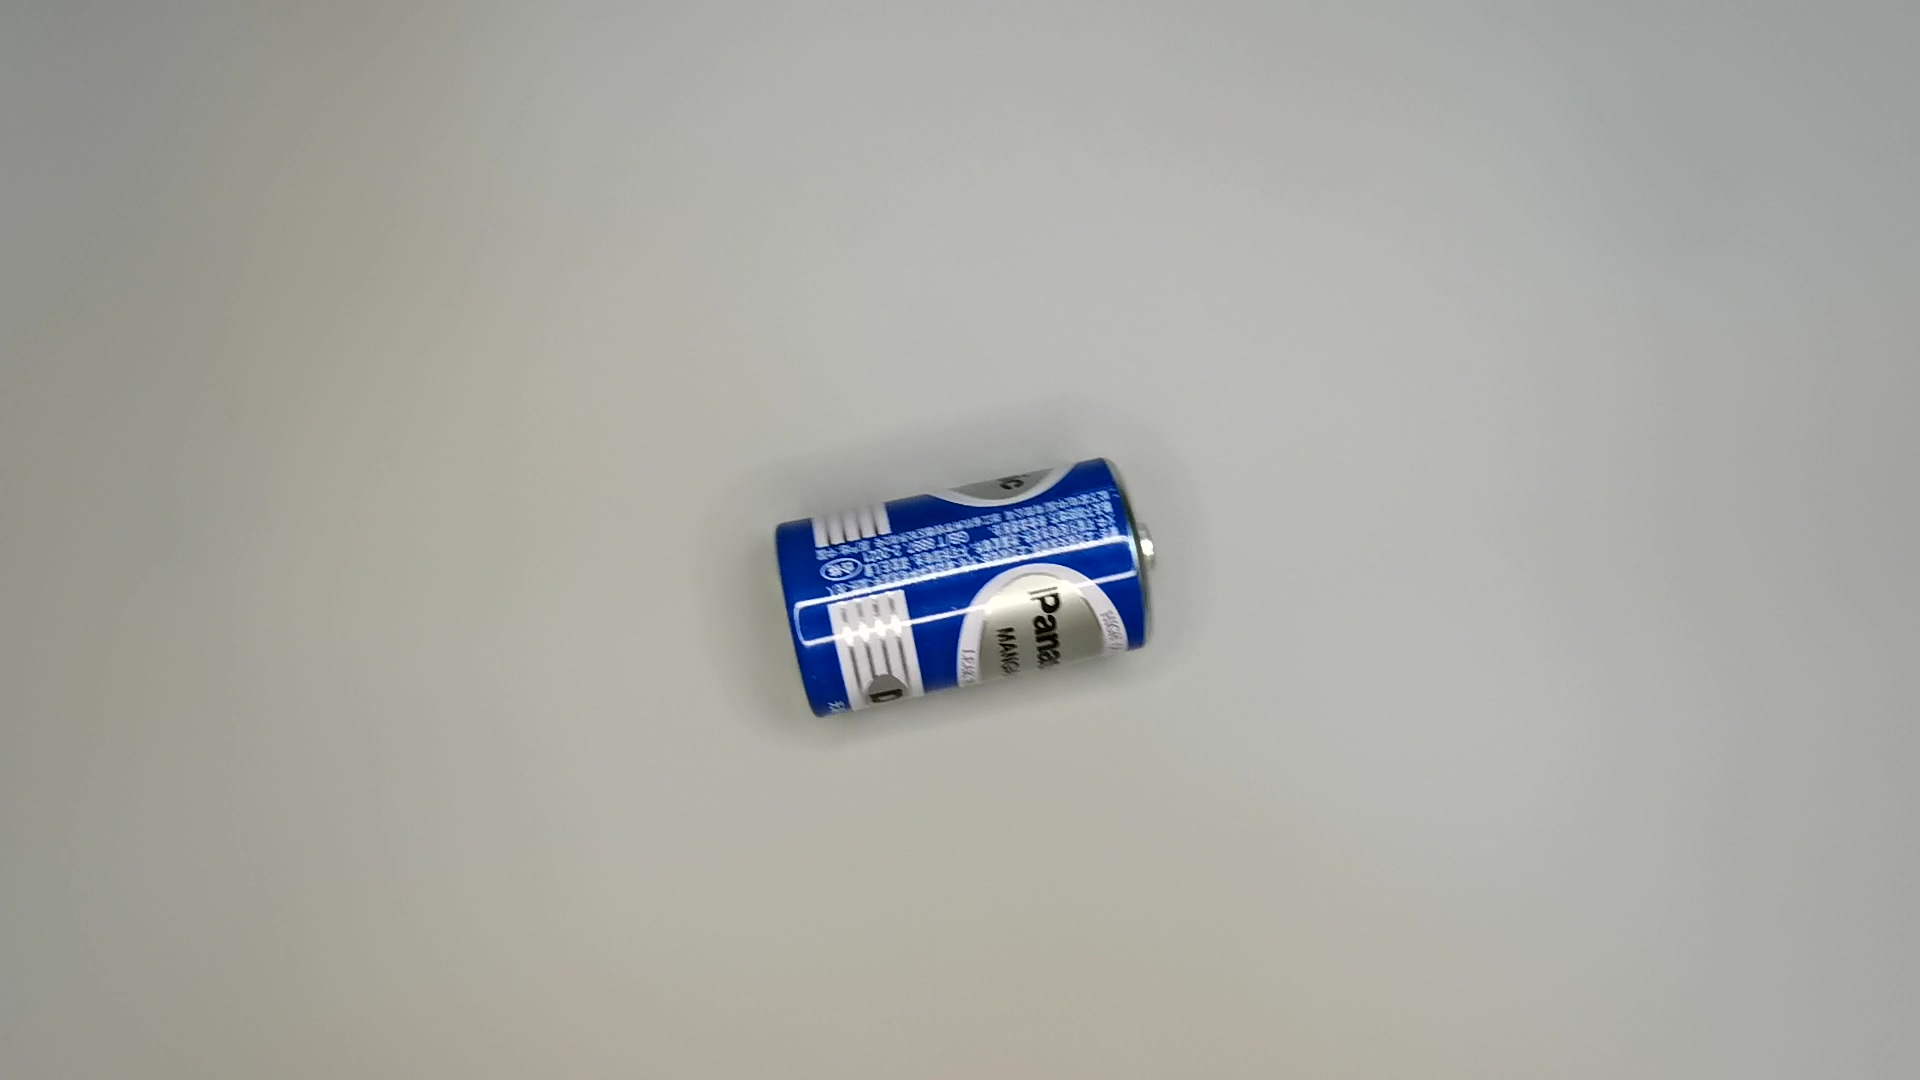battery: (764, 454, 1164, 731)
